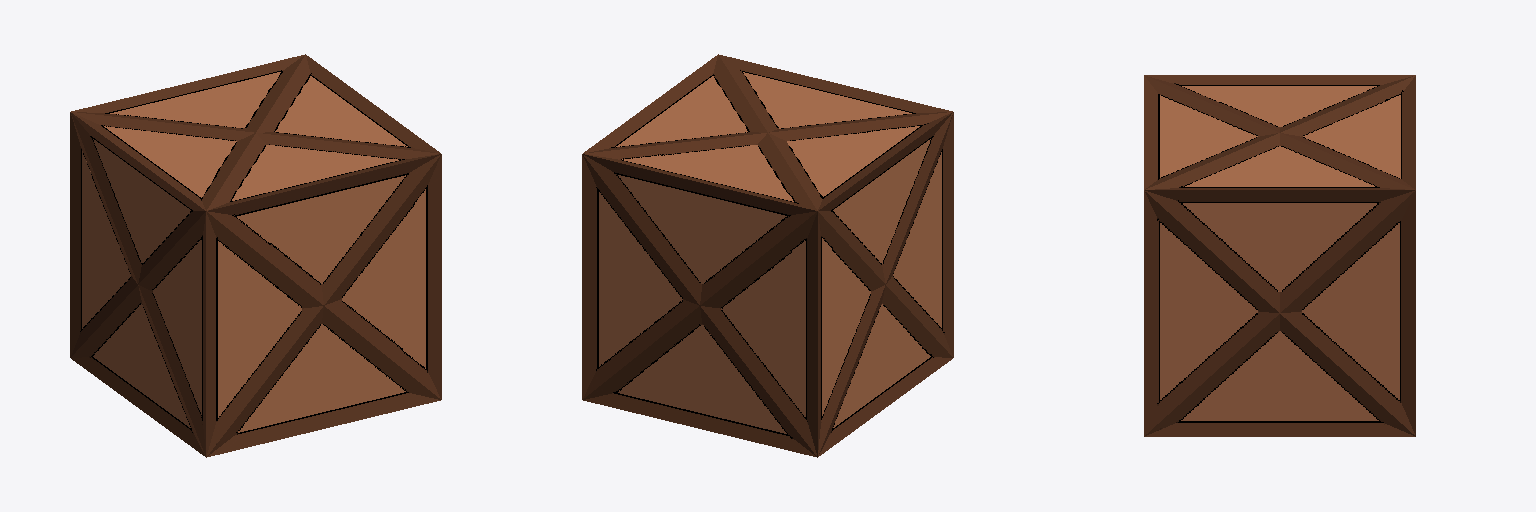
The picture shows the model from 3 angles: view 1: azimuth 30°, elevation 25°; view 2: azimuth 150°, elevation 25°; view 3: azimuth 270°, elevation 25°; orthographic projection.
Visible parts, largest first — view 1: Cube4; view 2: Cube4; view 3: Cube4.
Boxes of the visible parts, x1,y1,x2,y2 form: Cube4: [70, 54, 441, 457]; Cube4: [582, 54, 953, 457]; Cube4: [1144, 75, 1415, 436].
Bounding box in the file's own units: 2 × 2 × 2.
Materials: 1 (1 with a texture image).